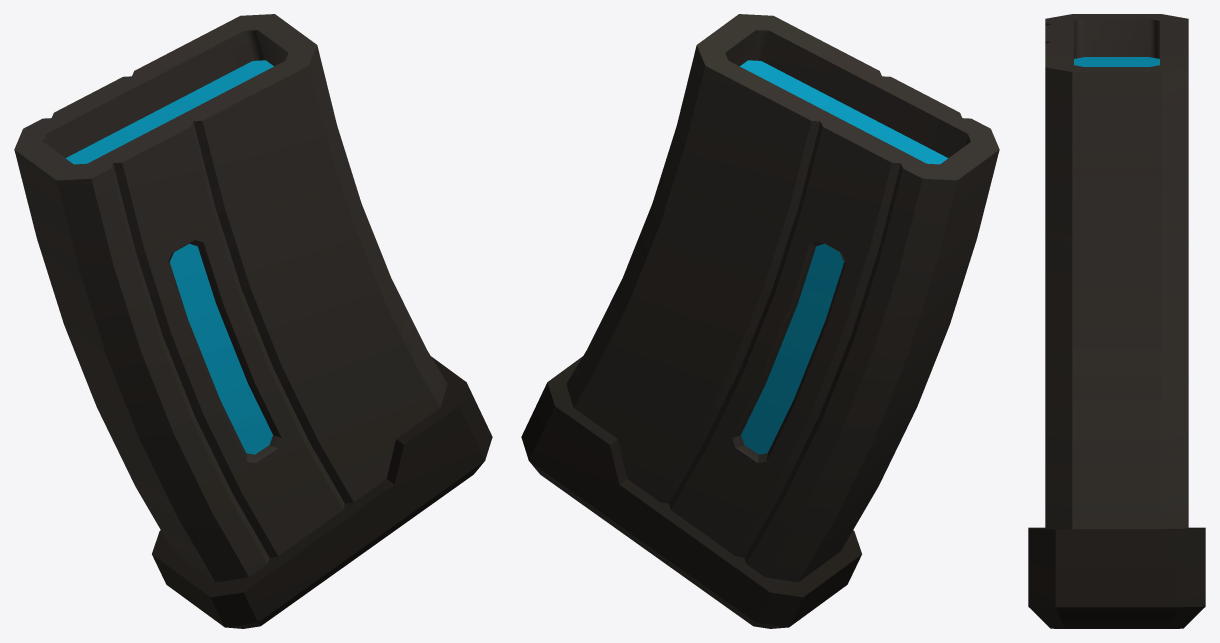
File: AR2_MagazineExtended.fbx
The picture shows the model from 3 angles, left to right: view 1: azimuth 30°, elevation 25°; view 2: azimuth 150°, elevation 25°; view 3: azimuth 270°, elevation 25°; orthographic projection. The views are drawn at different scales.
Visible parts, largest first — view 1: AR2_MagazineExtended; view 2: AR2_MagazineExtended; view 3: AR2_MagazineExtended.
Part boxes in pixels (x1,y1,x2,y2): AR2_MagazineExtended: (14,14,492,628); AR2_MagazineExtended: (521,14,999,628); AR2_MagazineExtended: (1028,14,1205,628).
Bounding box in the file's own units: 12.81 × 16.09 × 4.36.
